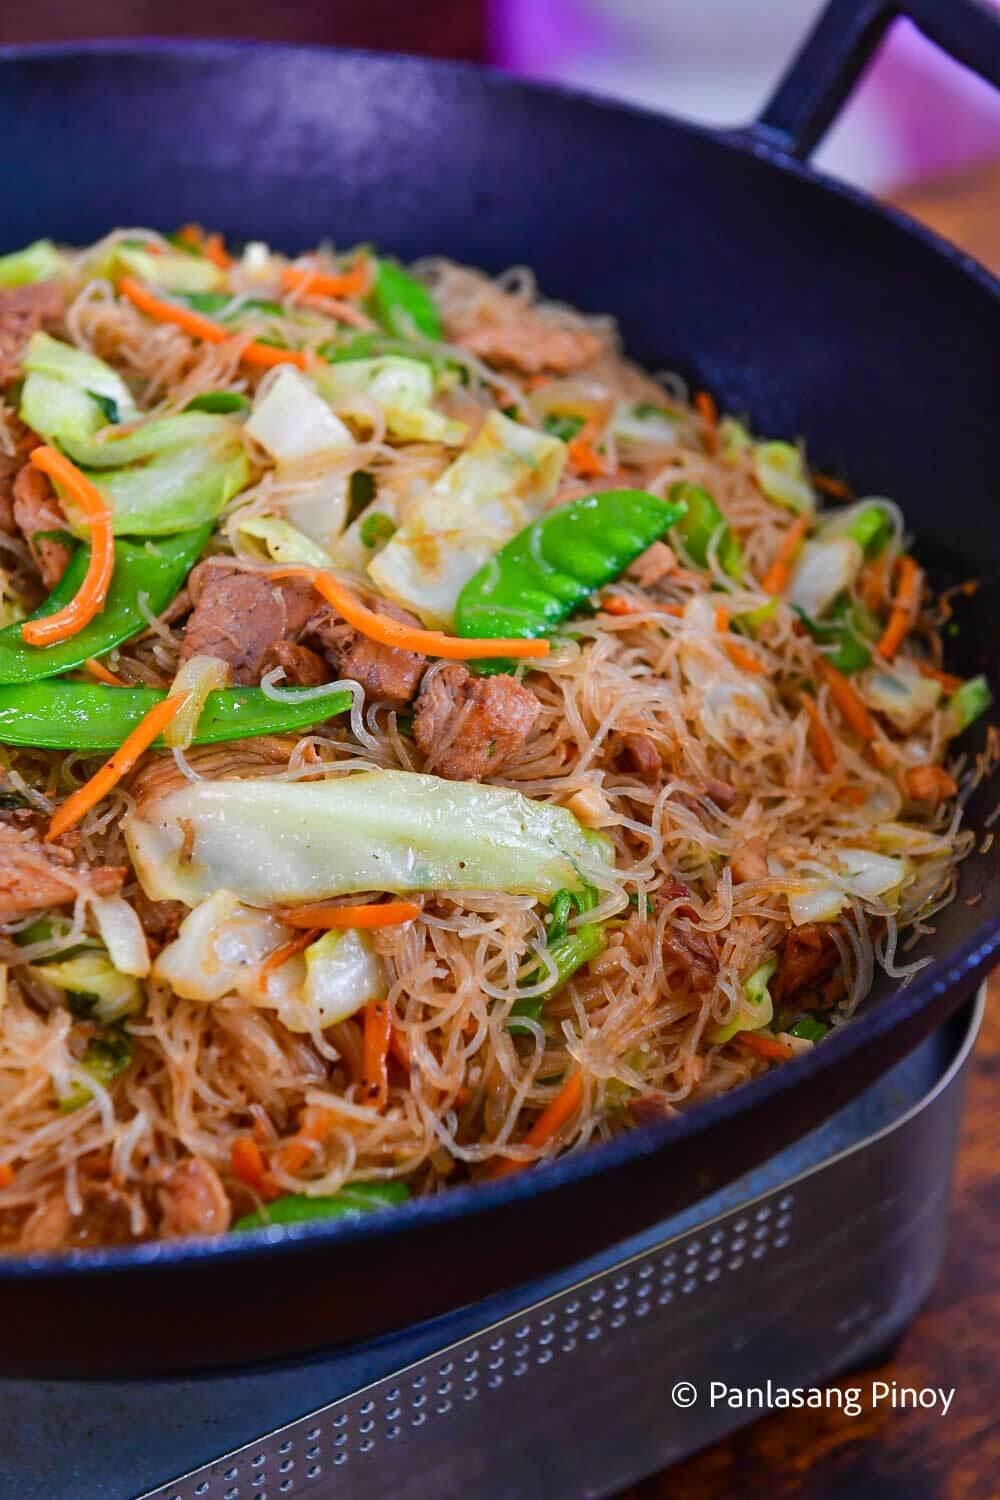pancit bihon: (0, 232, 994, 1258)
